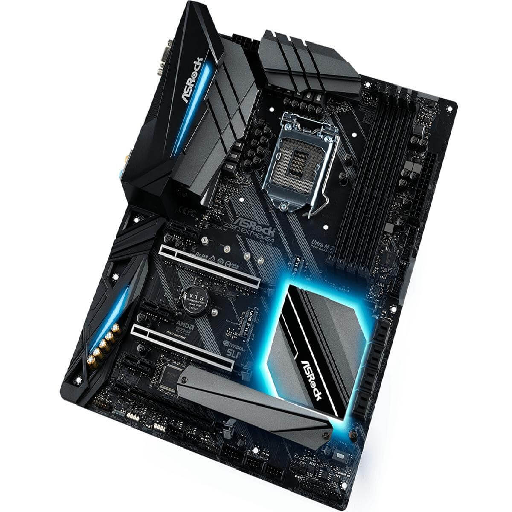CPU: (261, 111, 341, 217)
GPU: (129, 324, 235, 374), (157, 244, 262, 292)
MOTHERBOARD: (60, 1, 459, 512)
RAM: (323, 110, 413, 285)
SSD: (235, 309, 261, 347), (280, 257, 307, 290)
